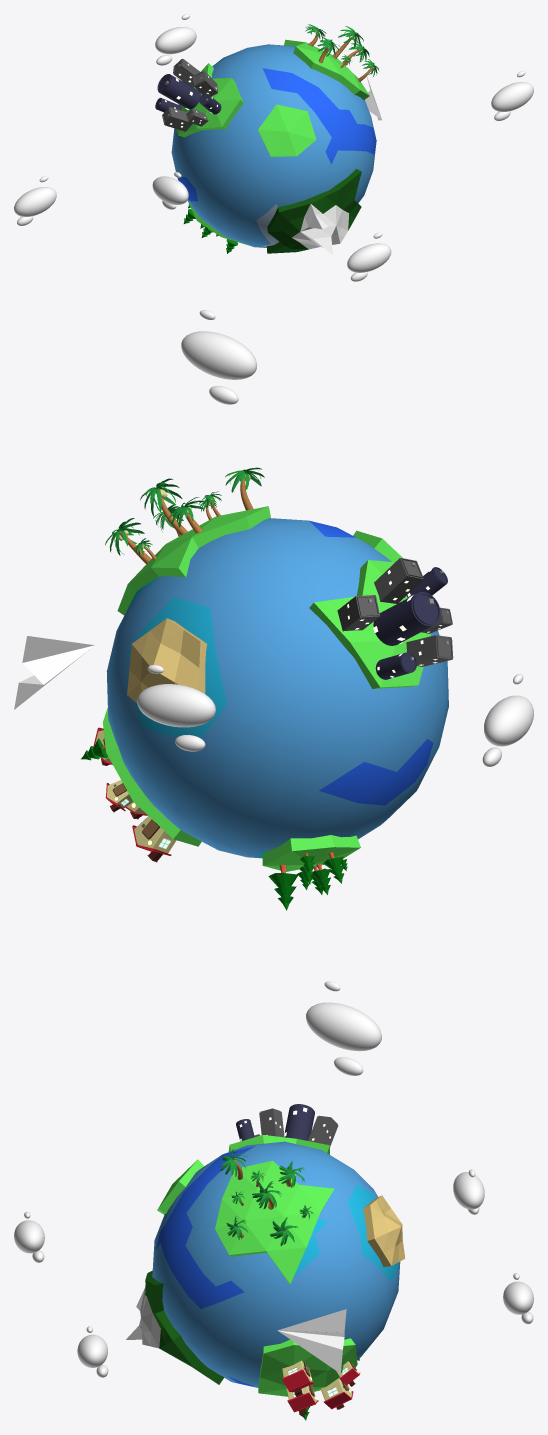
Rendered from earth.glb.
The picture shows the model from 3 angles, top to bottom: view 1: azimuth 30°, elevation 25°; view 2: azimuth 150°, elevation 25°; view 3: azimuth 270°, elevation 25°; orthographic projection. The views are drawn at different scales.
Parts seen in each view (by area): view 1: Icosphere.001, Icosphere, Sphere.013, Sphere.023, Sphere.026, Cylinder.001, Sphere, Sphere.016, Cube.009, Cube.030, Cube.051; view 2: Icosphere.001, Icosphere, Sphere.023, Sphere.026, Sphere, Plane.003, Cylinder.001, Sphere.016, Cube.030, Cube.051, Cube.009; view 3: Icosphere.001, Icosphere, Plane.003, Sphere, Cylinder.001, Sphere.023, Sphere.026, Sphere.013, Cube.051, Cube.030, Plane, Plane.001.
Part boxes in pixels (x1=…): Icosphere.001: x1=171, y1=44, x2=376, y2=247; Icosphere: x1=176, y1=39, x2=369, y2=254; Sphere.013: x1=347, y1=243, x2=391, y2=272; Sphere.023: x1=491, y1=82, x2=533, y2=111; Sphere.026: x1=14, y1=187, x2=56, y2=216; Cylinder.001: x1=157, y1=74, x2=201, y2=109; Sphere: x1=155, y1=27, x2=196, y2=54; Sphere.016: x1=152, y1=176, x2=188, y2=204; Cube.009: x1=162, y1=107, x2=192, y2=131; Cube.030: x1=192, y1=71, x2=217, y2=96; Cube.051: x1=173, y1=59, x2=200, y2=87; Icosphere.001: x1=106, y1=518, x2=448, y2=858; Icosphere: x1=103, y1=506, x2=430, y2=871; Sphere.023: x1=181, y1=331, x2=257, y2=379; Sphere.026: x1=306, y1=1002, x2=381, y2=1051; Sphere: x1=137, y1=684, x2=215, y2=727; Plane.003: x1=14, y1=636, x2=94, y2=709; Cylinder.001: x1=373, y1=592, x2=440, y2=645; Sphere.016: x1=484, y1=695, x2=533, y2=746; Cube.030: x1=374, y1=558, x2=423, y2=603; Cube.051: x1=337, y1=595, x2=379, y2=631; Cube.009: x1=406, y1=635, x2=453, y2=666; Icosphere.001: x1=152, y1=1141, x2=400, y2=1387; Icosphere: x1=126, y1=1135, x2=405, y2=1396; Plane.003: x1=277, y1=1309, x2=346, y2=1373; Sphere: x1=453, y1=1172, x2=484, y2=1209; Cylinder.001: x1=284, y1=1104, x2=314, y2=1140; Sphere.023: x1=14, y1=1220, x2=44, y2=1253; Sphere.026: x1=503, y1=1281, x2=533, y2=1314; Sphere.013: x1=77, y1=1334, x2=107, y2=1367; Cube.051: x1=308, y1=1115, x2=338, y2=1146; Cube.030: x1=259, y1=1108, x2=284, y2=1137; Plane: x1=282, y1=1369, x2=314, y2=1396; Plane.001: x1=287, y1=1392, x2=318, y2=1415.
Bounding box in the file's own units: 7.24 × 5.07 × 8.45.
